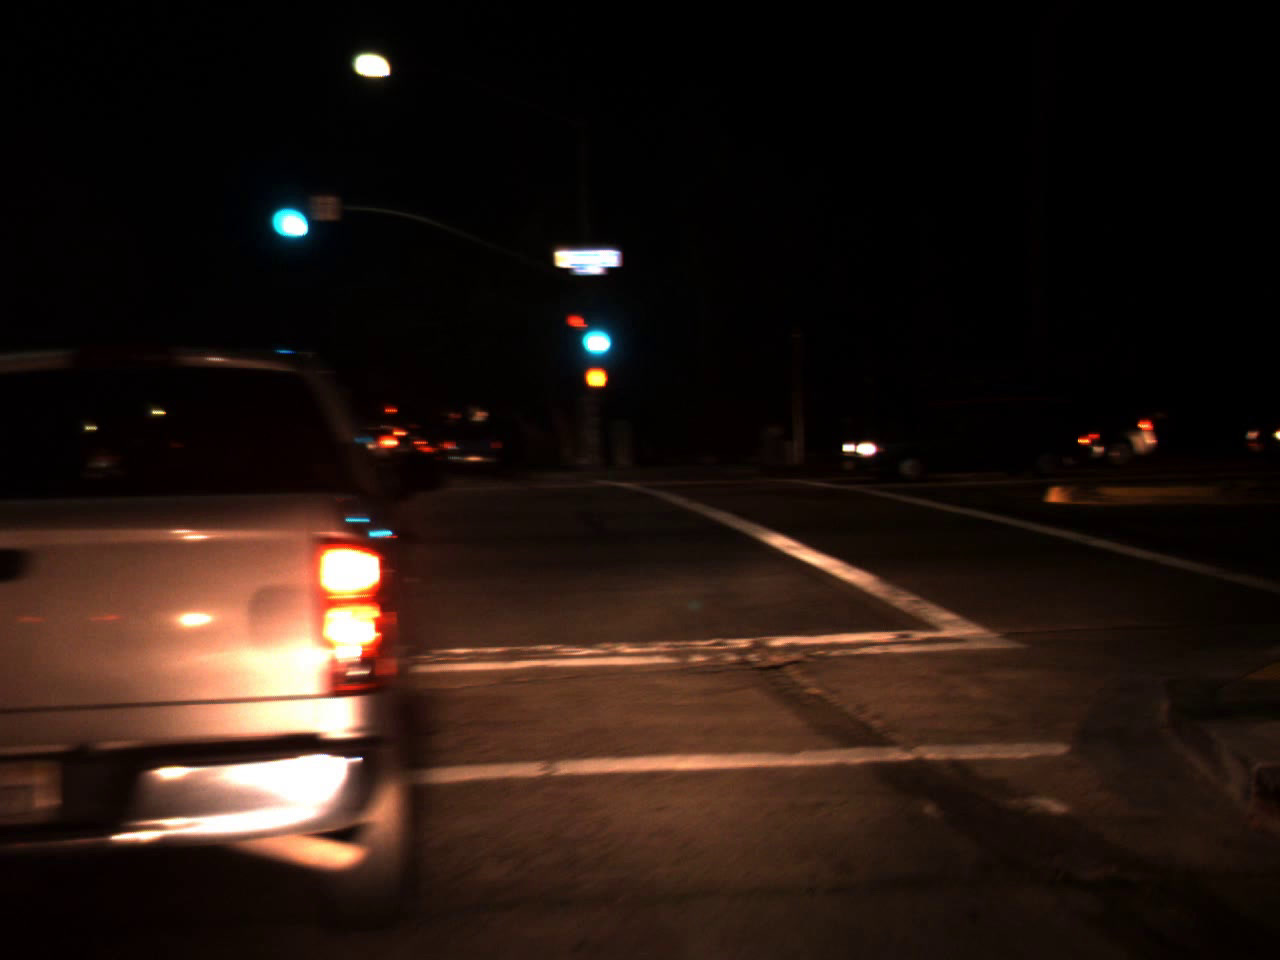go: (263, 172, 315, 250), (569, 299, 617, 365)
